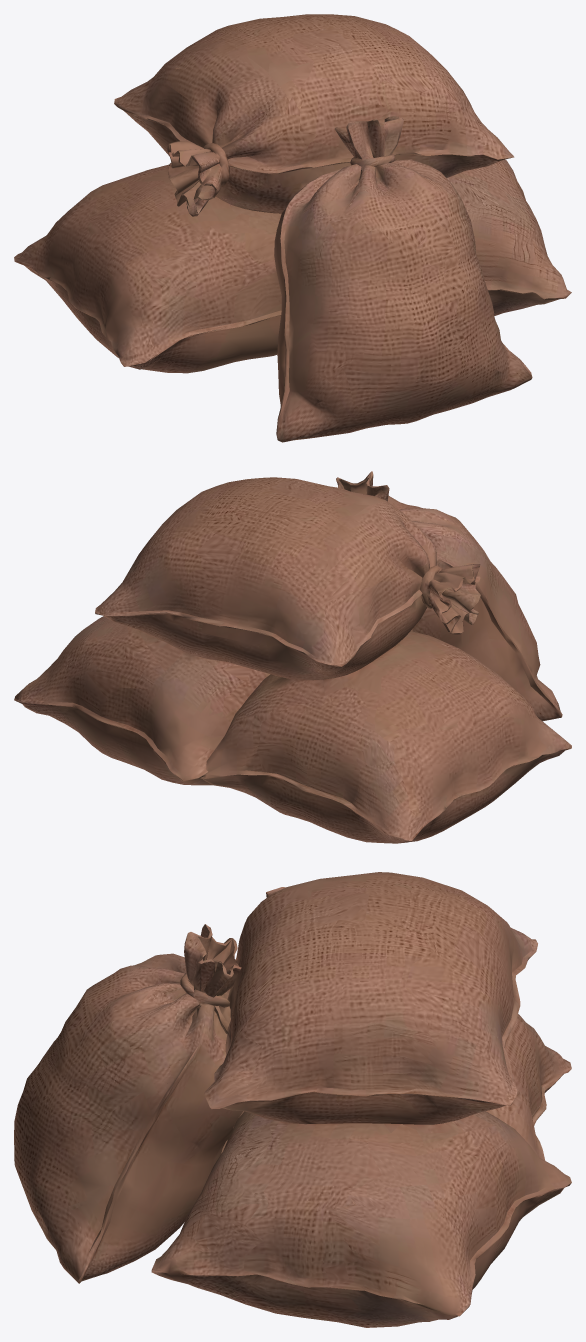
The model's file is decor_sacks_idle.glb.
3 renders of one model, top to bottom at view 1: azimuth 30°, elevation 25°; view 2: azimuth 150°, elevation 25°; view 3: azimuth 270°, elevation 25°, orthographic. The views are drawn at different scales.
Visible parts, largest first — view 1: tripo_node_39ead20d-2b7b-4a24-9e27-71c530b7b253; view 2: tripo_node_39ead20d-2b7b-4a24-9e27-71c530b7b253; view 3: tripo_node_39ead20d-2b7b-4a24-9e27-71c530b7b253.
Part boxes in pixels (<box>): tripo_node_39ead20d-2b7b-4a24-9e27-71c530b7b253: <box>14,14,571,442</box>; tripo_node_39ead20d-2b7b-4a24-9e27-71c530b7b253: <box>14,471,571,843</box>; tripo_node_39ead20d-2b7b-4a24-9e27-71c530b7b253: <box>14,872,571,1327</box>.
Bounding box in the file's own units: 1 × 0.5758 × 0.8694.
Materials: 1 (1 with a texture image).
